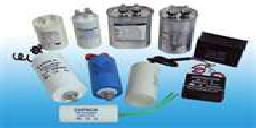Electrolytic-capacitor: (11, 52, 86, 106), (194, 30, 249, 66), (85, 51, 122, 98), (29, 13, 69, 50), (73, 6, 104, 47)
